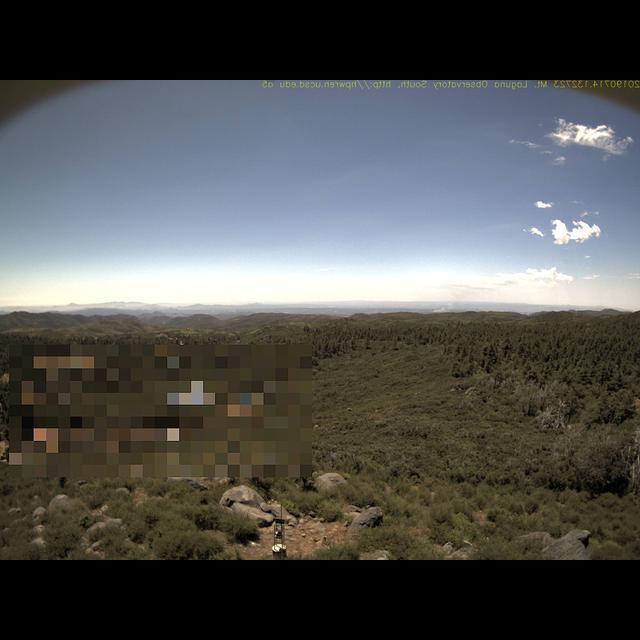Smoke: (425, 276, 517, 315)
